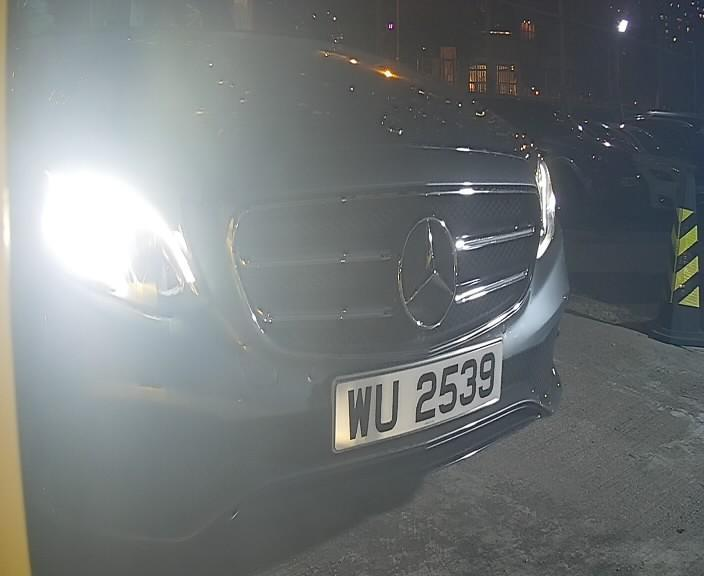privatecar: (19, 6, 569, 543)
